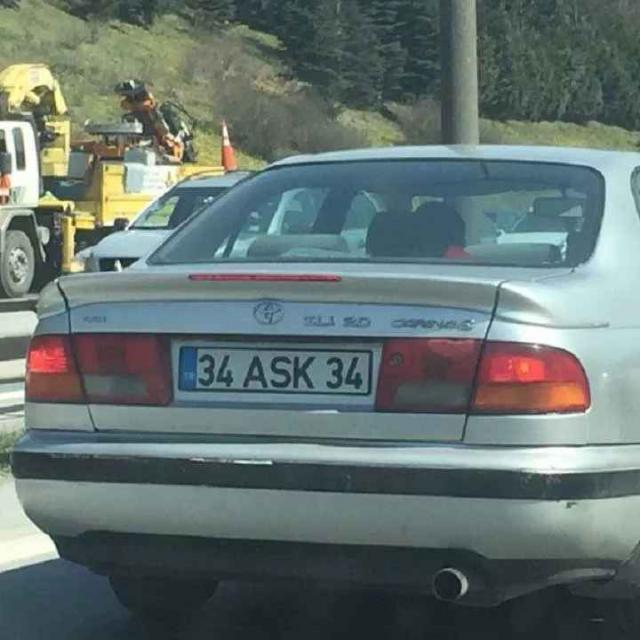plate: (175, 346, 376, 398)
